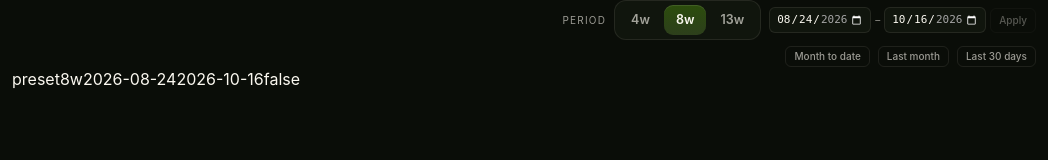
Test: PeriodPicker › applies a custom from–to range
Step 1. Type "2026-10-01" into the 1st date field named "From date" → (820, 20), box [769,7,871,33]
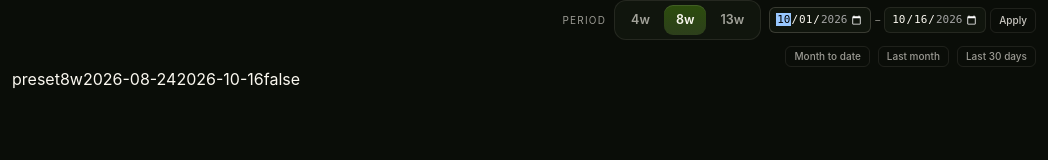
Step 2. Type "2026-10-15" into the 2nd date field named "To date" → (935, 20), box [884,7,986,33]
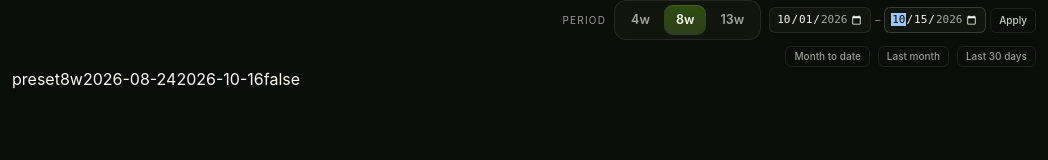
Step 3. Click the button "Apply" → (1013, 20), box [990,8,1036,32]
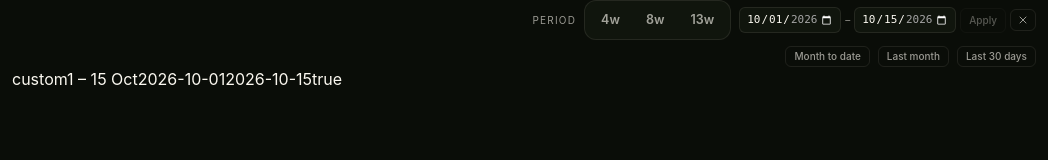
Result: the text with test id "mode" reads "custom" at [12,69,67,89]
Result: the text with test id "start" reads "2026-10-01" at [138,69,225,89]
Result: the text with test id "end" reads "2026-10-15" at [225,69,312,89]
